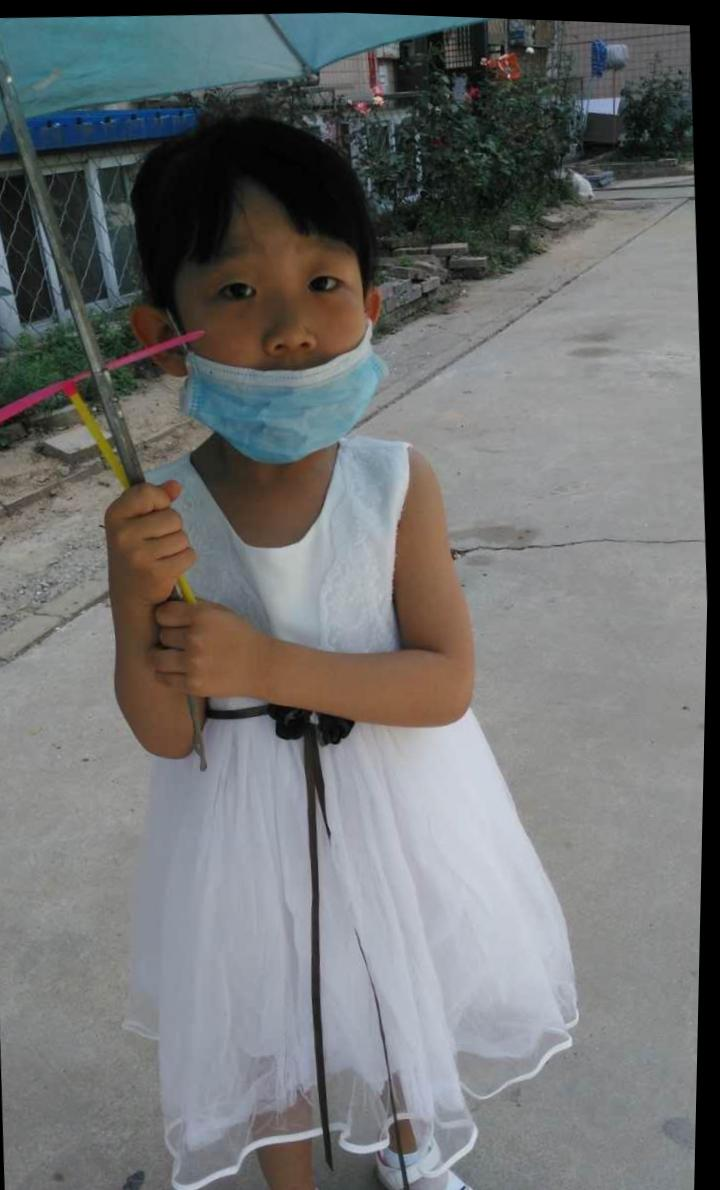WRONG: (173, 225, 390, 471)
